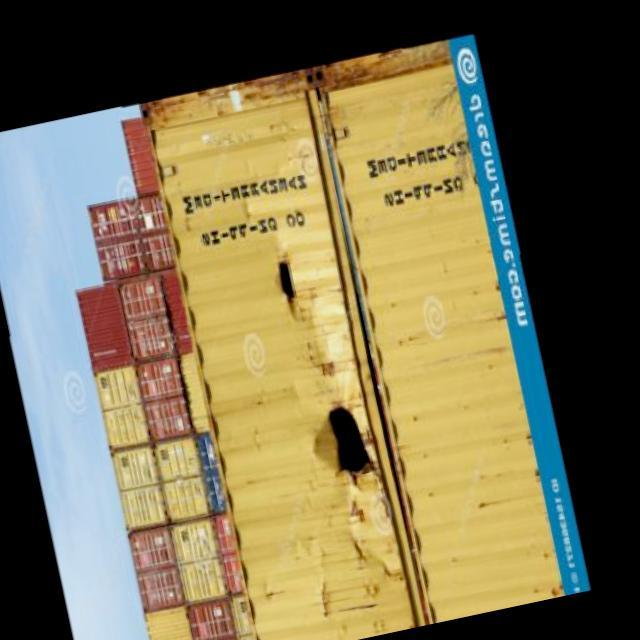hole: (300, 384, 384, 497), (252, 247, 315, 324)
rust: (137, 38, 457, 173), (319, 496, 409, 607)
